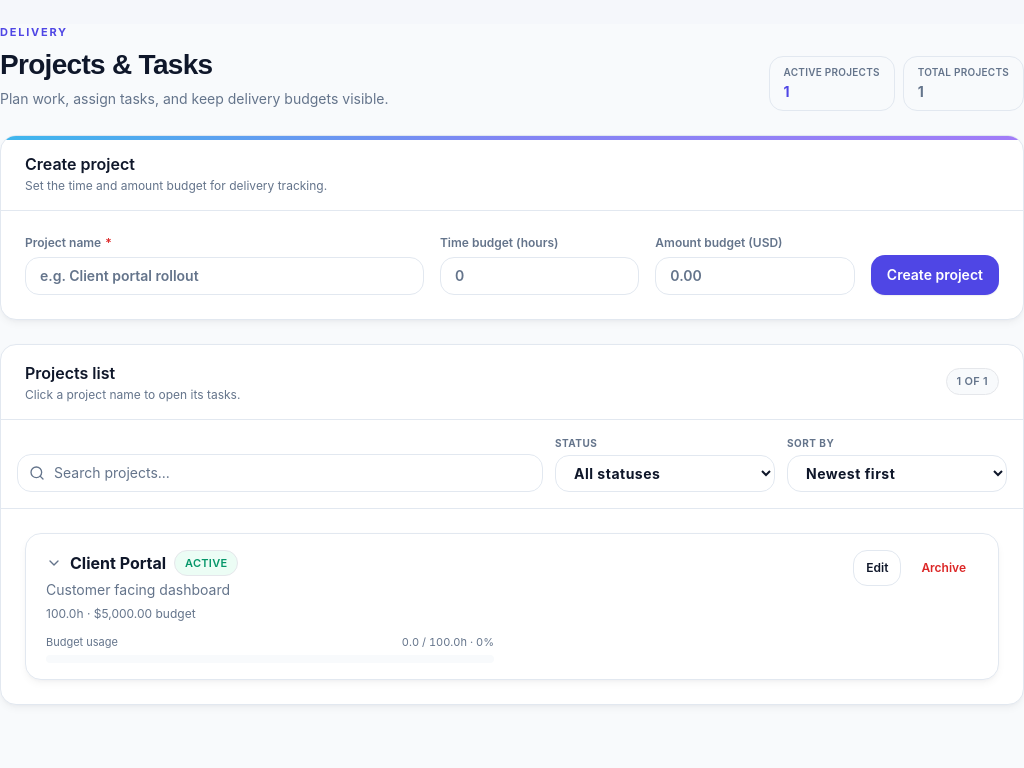
Test: ProjectsPage (Characterization) › expands project and displays tasks
This screenshot has width=1024, height=768.
Click the text "Client Portal" at (118, 563), box top-left (70, 551), bottom-right (166, 575)
(page scrolled)
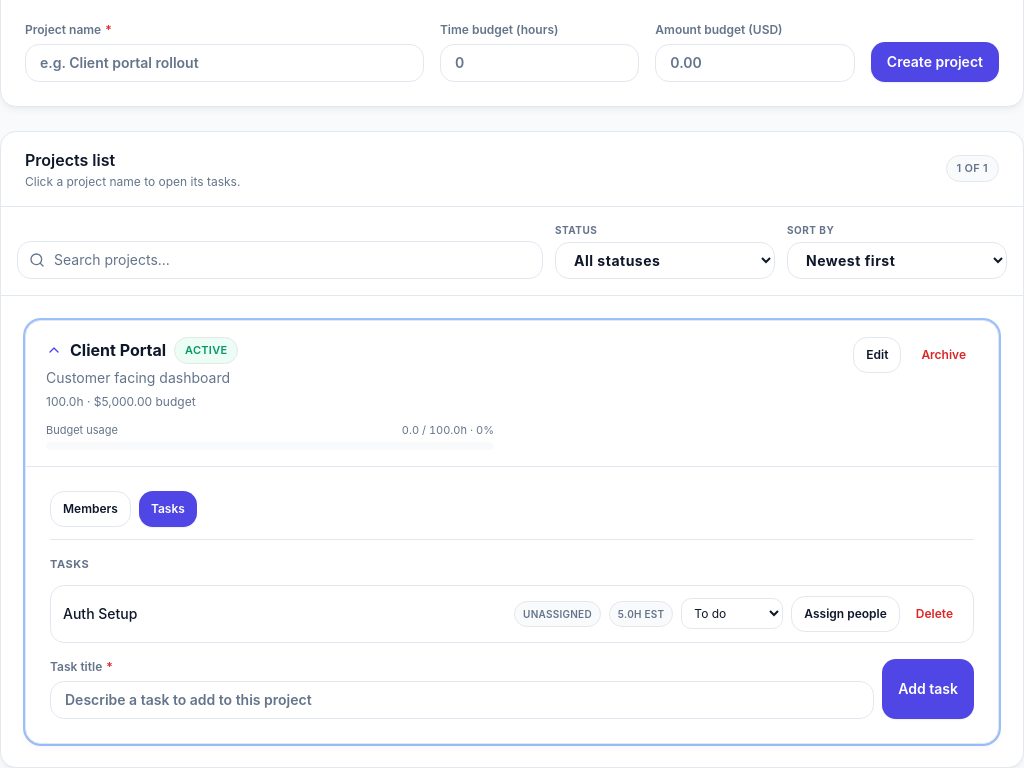
Check: the button "Auth Setup" is shown, box top-left (63, 603), bottom-right (502, 623)
